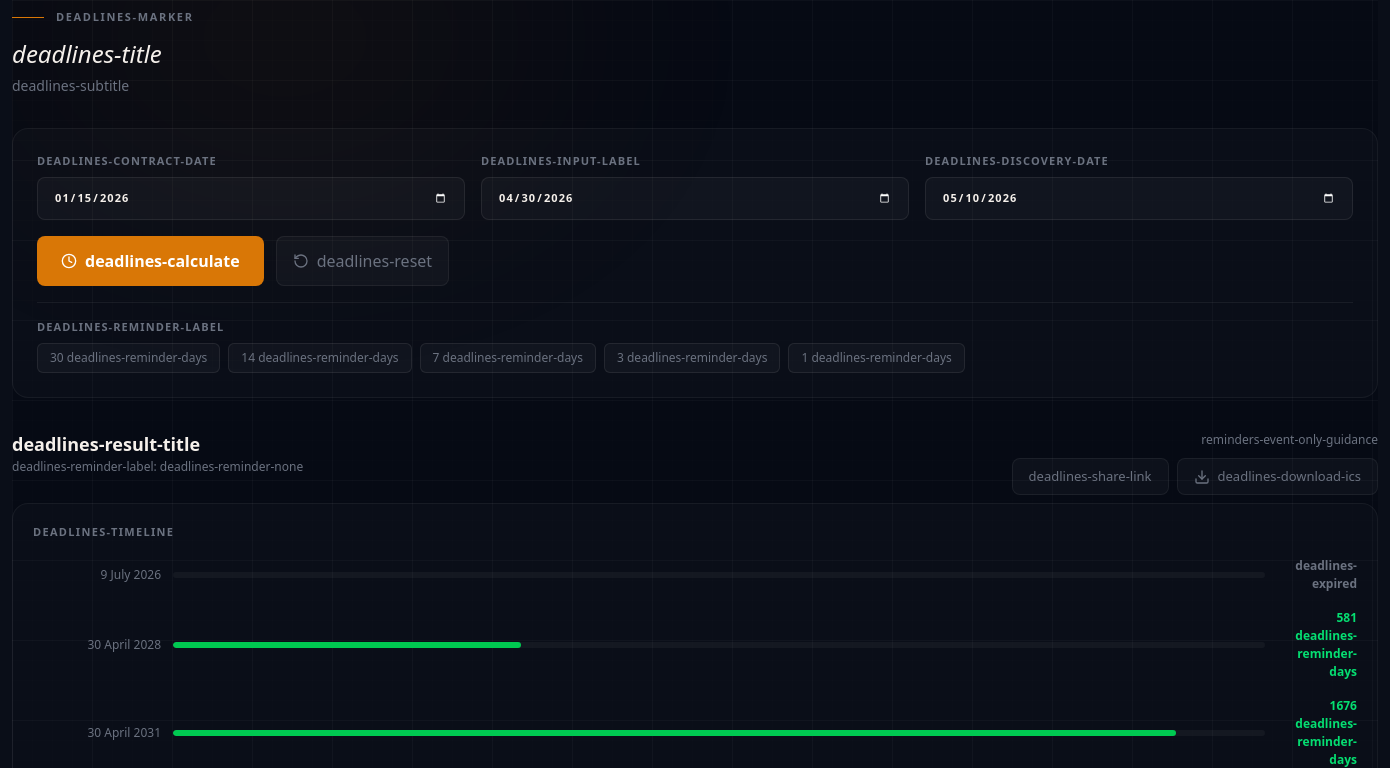
Test: deadlines share-link restoration › uses event-only guidance and success feedback for a no-reminders download
Expected: the heading "deadlines-result-title" is shown, [12,432,200,456]
Expected: the text "deadlines-reminder-label: deadlines-reminder-none" is shown, [12,458,303,476]
Click the button "deadlines-download-ics": (1277, 477) [1176,458,1378,495]
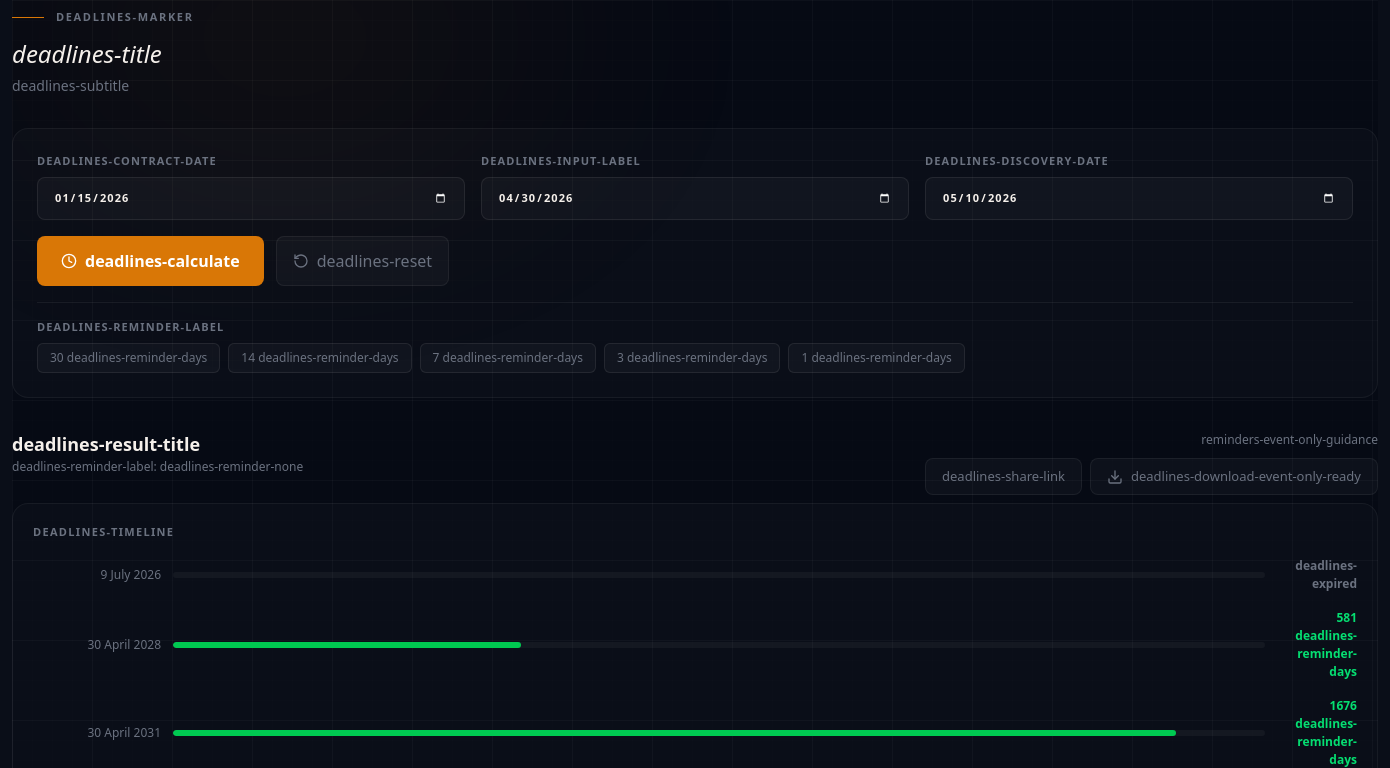
Expected: the button "deadlines-download-event-only-ready" is shown, [1090,458,1378,495]
